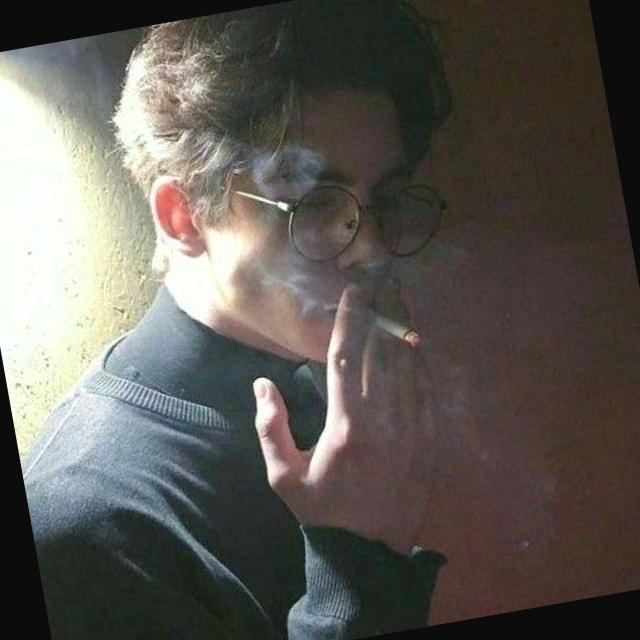smoke: (320, 270, 430, 374)
